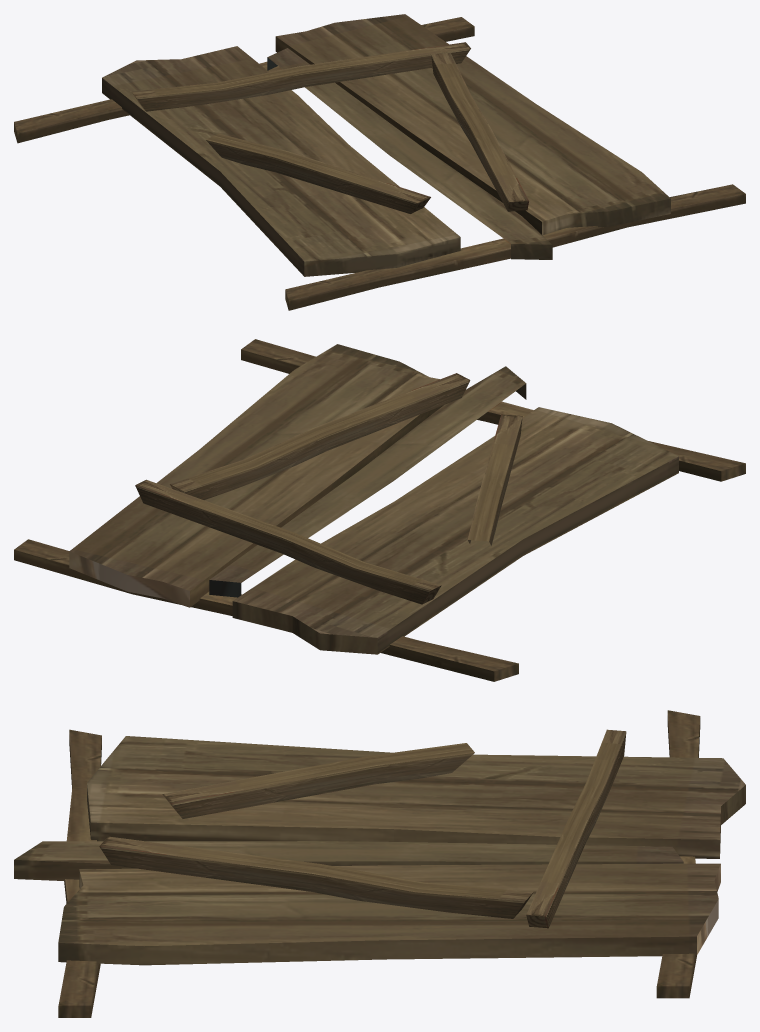
The model's file is muban_01.FBX.
3 views of the same model, one above another, from view 1: azimuth 30°, elevation 25°; view 2: azimuth 150°, elevation 25°; view 3: azimuth 270°, elevation 25° (orthographic). The views are drawn at different scales.
Parts seen in each view (by area): view 1: fb_chisd_mujia_a; view 2: fb_chisd_mujia_a; view 3: fb_chisd_mujia_a.
Boxes of the visible parts, x1=… form: fb_chisd_mujia_a: x1=14, y1=14, x2=745, y2=310; fb_chisd_mujia_a: x1=14, y1=339, x2=745, y2=681; fb_chisd_mujia_a: x1=14, y1=710, x2=745, y2=1017.
Size of the model in its own units: 514 by 40.82 by 538.
